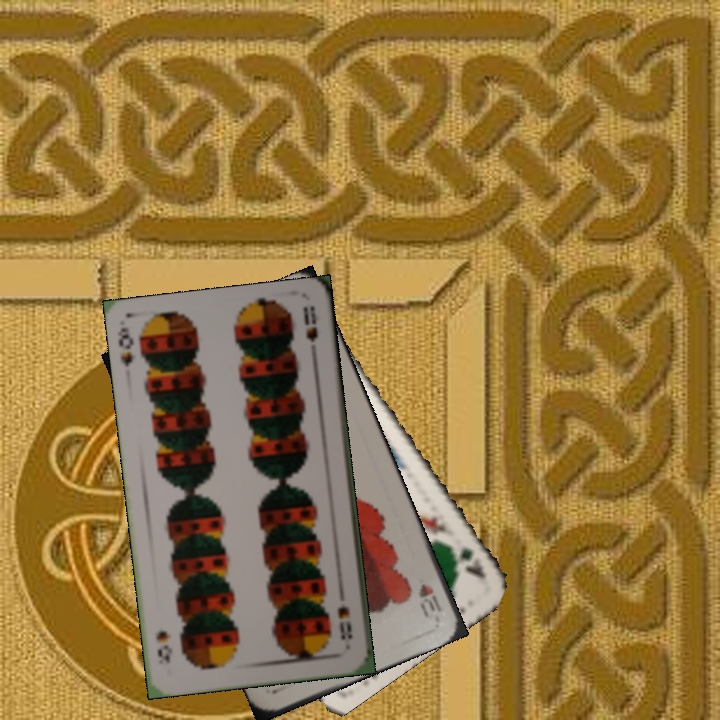GK: (444, 539, 489, 584)
H10: (414, 580, 445, 620)
S8: (113, 323, 138, 370), (333, 601, 355, 642)
